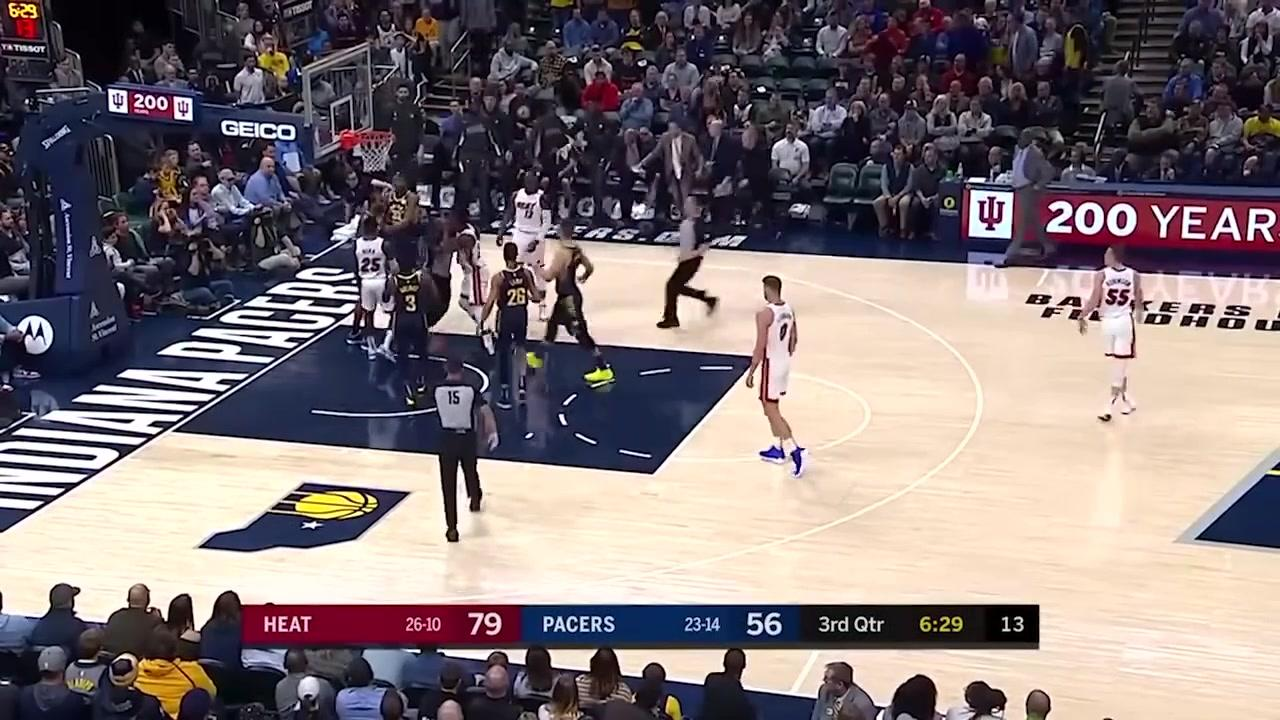foul: (351, 196, 487, 364)
